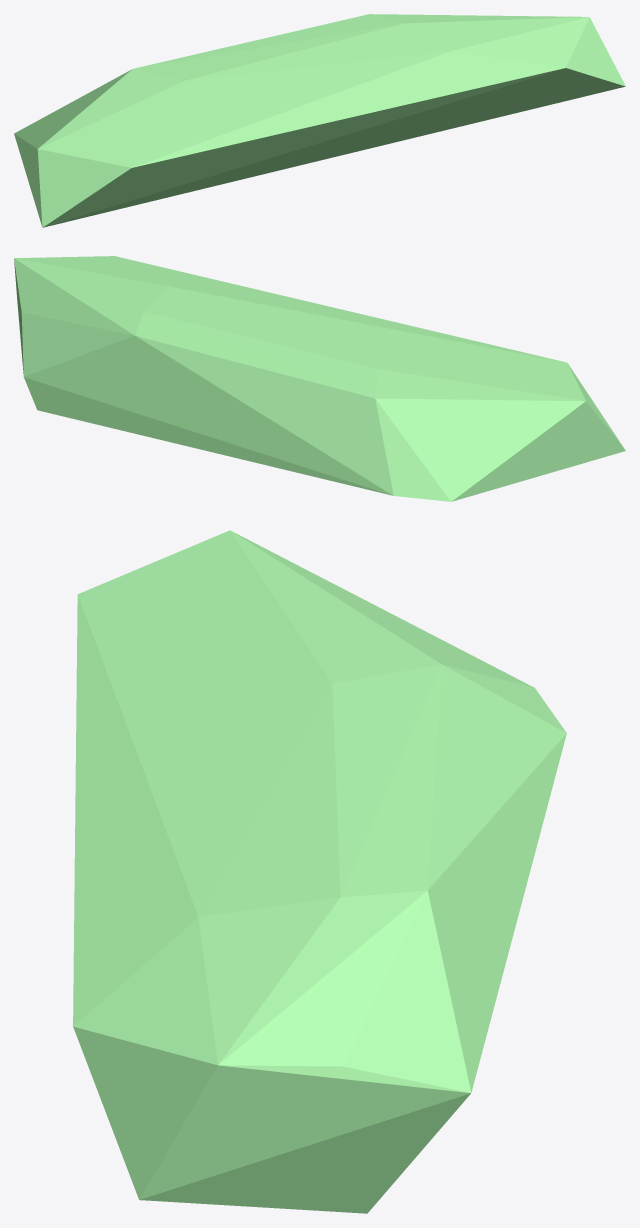
The model's file is xarm7_with_gripper_robot_base_coll_23.dae.
The picture shows the model from 3 angles, top to bottom: view 1: azimuth 30°, elevation 25°; view 2: azimuth 150°, elevation 25°; view 3: azimuth 270°, elevation 25°; orthographic projection. The views are drawn at different scales.
Visible parts, largest first — view 1: Node_000001B89B5E4920; view 2: Node_000001B89B5E4920; view 3: Node_000001B89B5E4920.
Boxes of the visible parts, x1,y1,x2,y2 form: Node_000001B89B5E4920: [14, 14, 625, 227]; Node_000001B89B5E4920: [14, 256, 625, 501]; Node_000001B89B5E4920: [73, 530, 566, 1213].
Bounding box in the file's own units: 0.1098 × 0.0202 × 0.0403.
